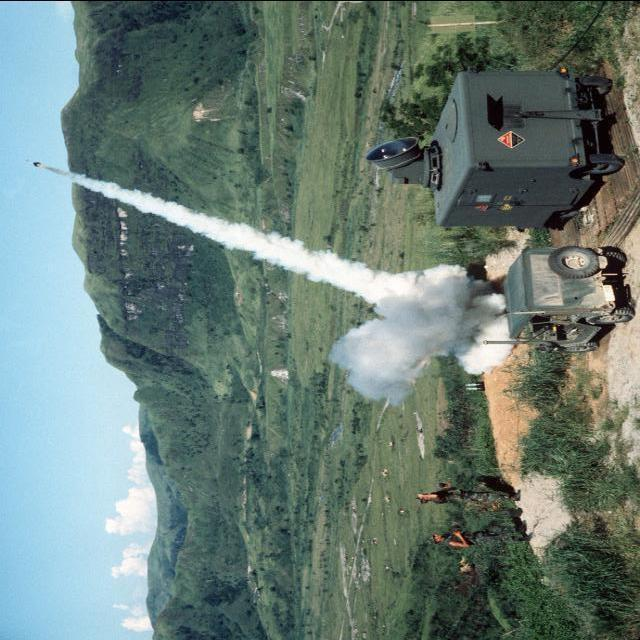missile: (31, 160, 48, 170)
